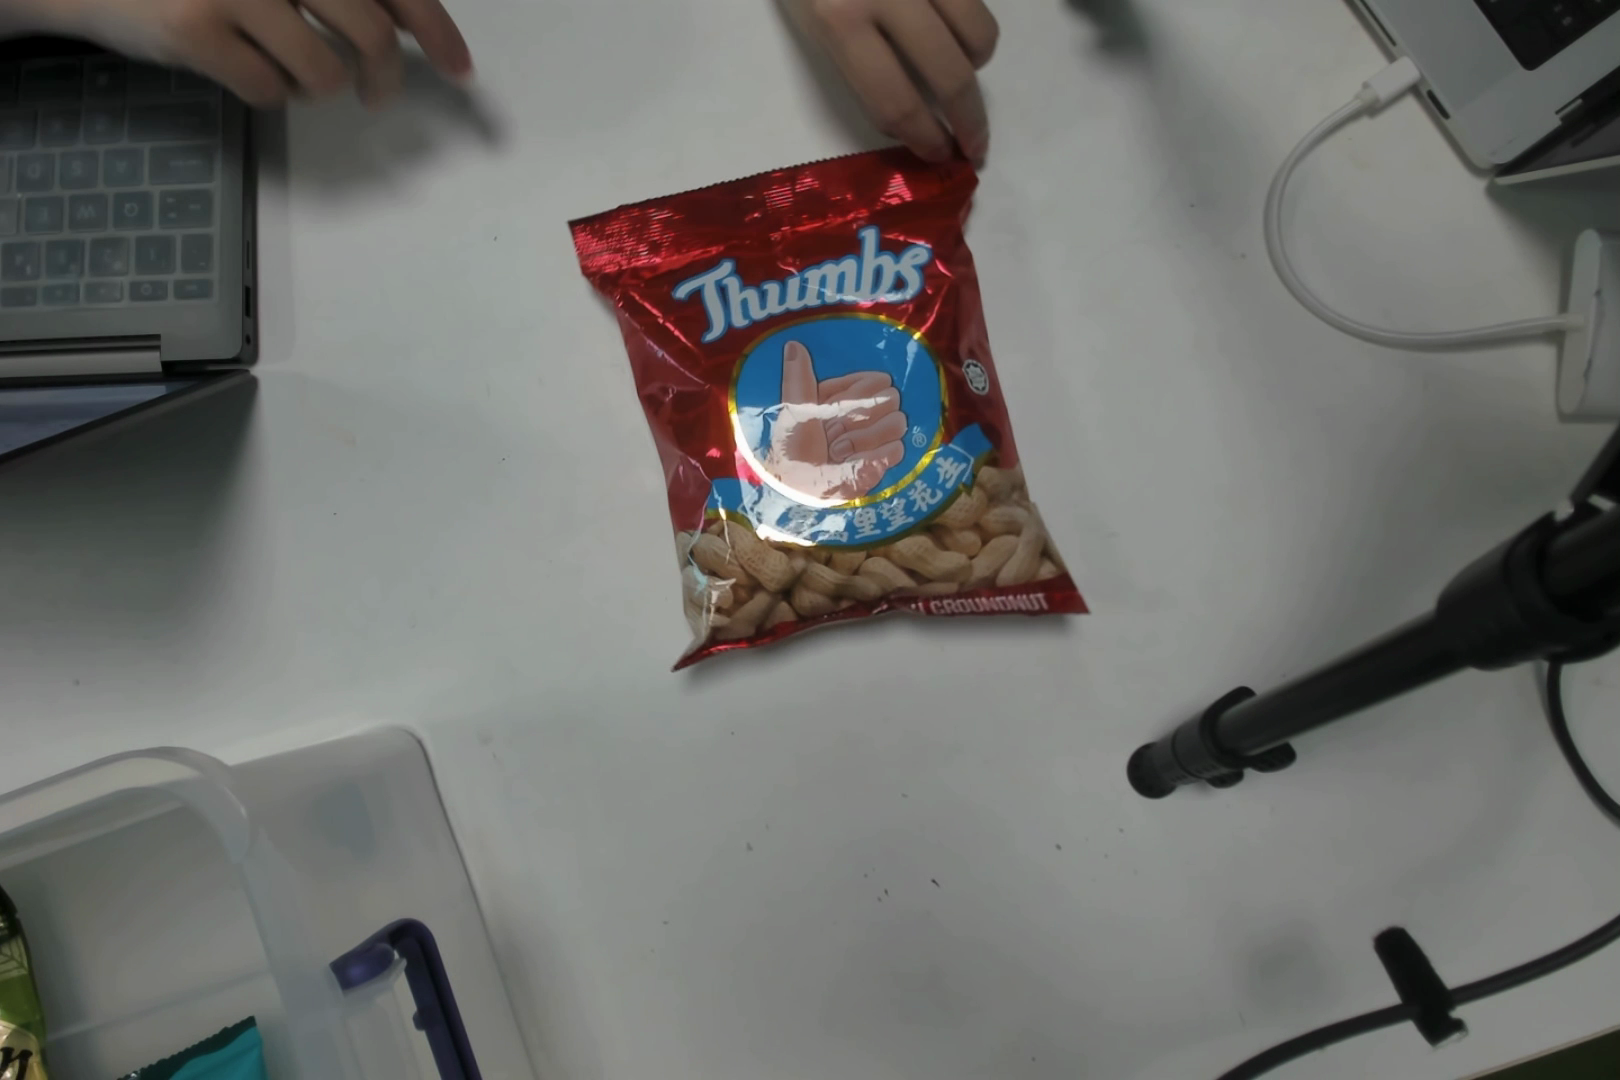Nuts_100-199g_Halal_NonHealthy: (652, 188, 1053, 642)
